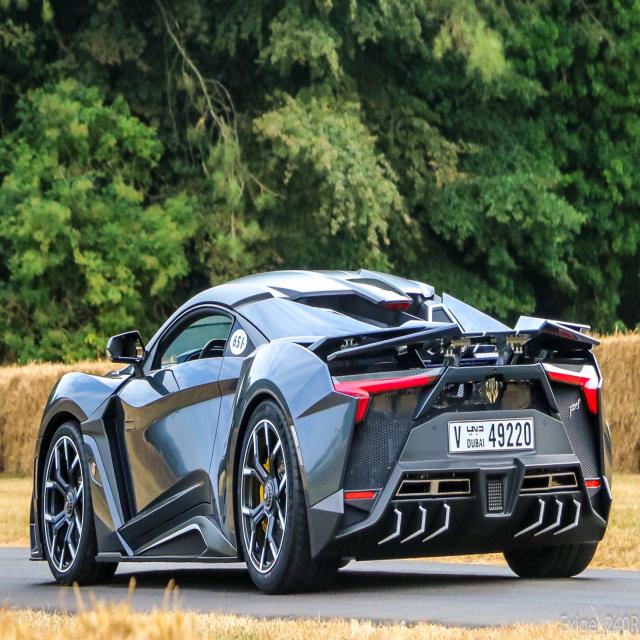License-plate: (447, 417, 535, 454)
